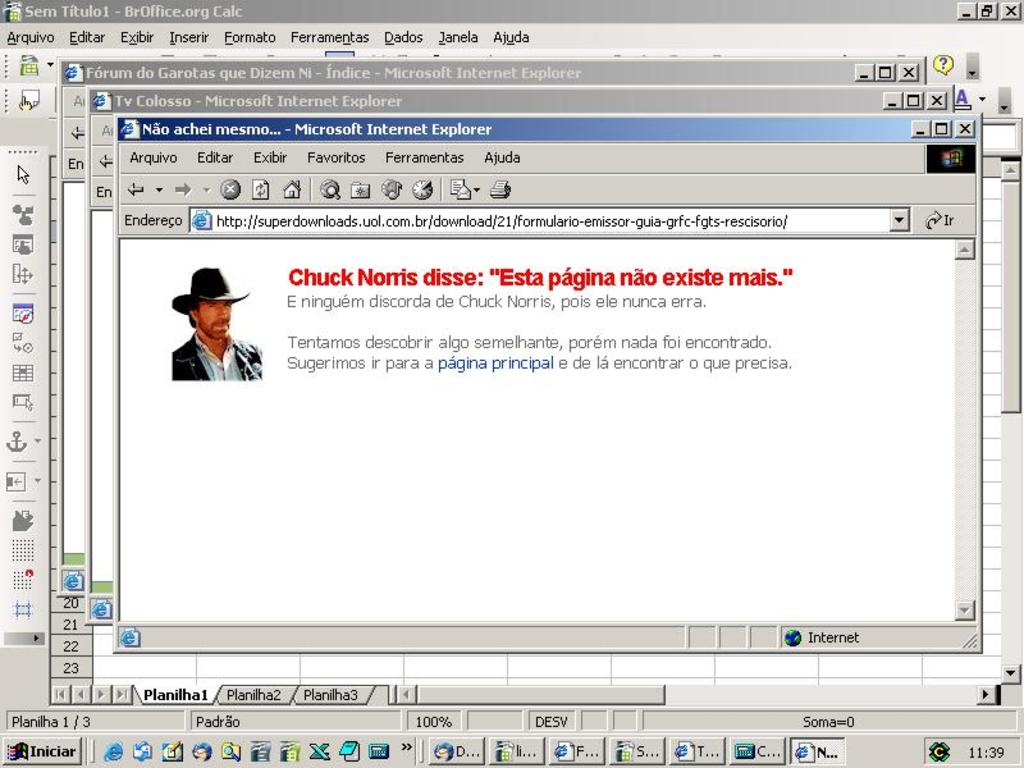Person: (172, 267, 263, 380)
